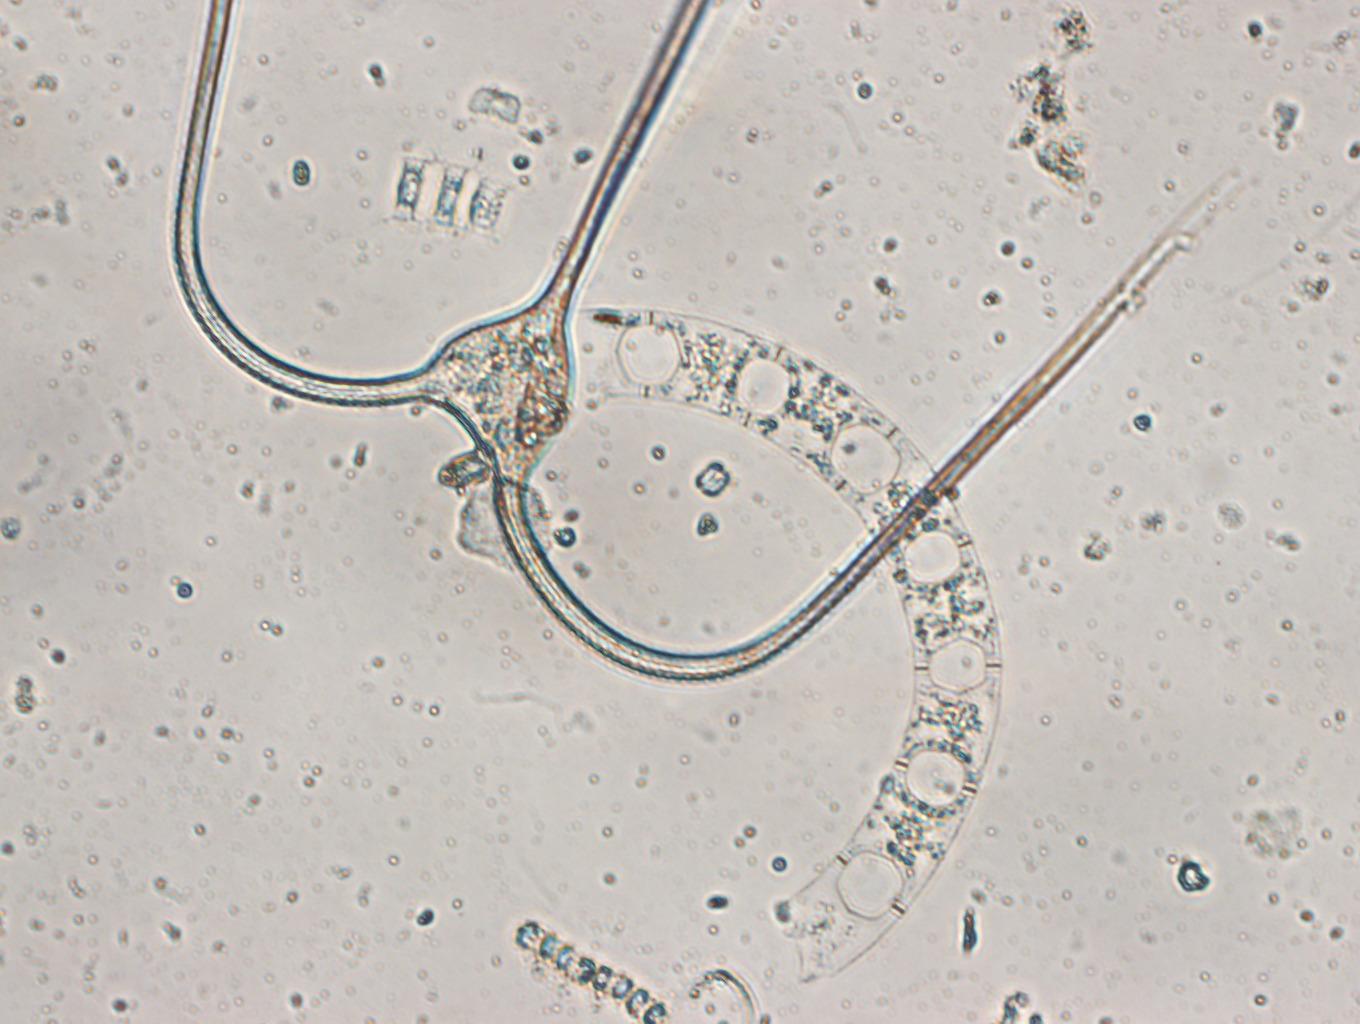ceratium trichoceros: (164, 1, 1222, 681)
eucampia: (574, 305, 1005, 992)
skeletonema: (510, 919, 674, 1024)
